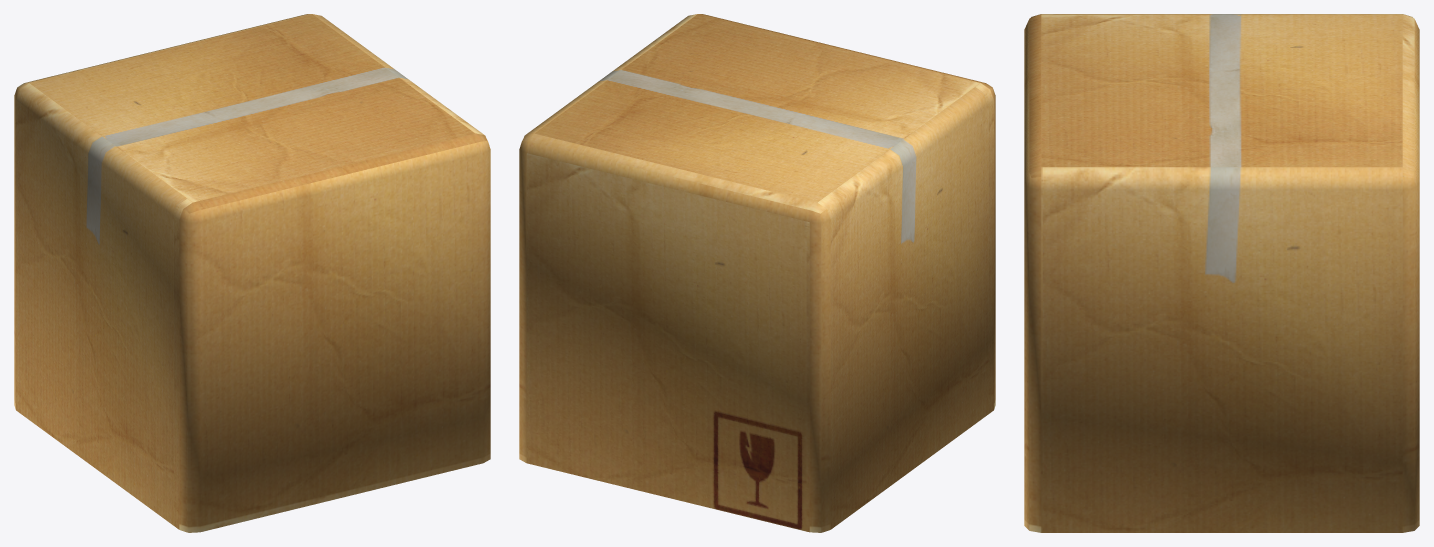
File: BoxSmall.fbx
3 views of the same model, side by side, from view 1: azimuth 30°, elevation 25°; view 2: azimuth 150°, elevation 25°; view 3: azimuth 270°, elevation 25° (orthographic). The views are drawn at different scales.
Parts seen in each view (by area): view 1: Cube; view 2: Cube; view 3: Cube.
Boxes of the visible parts, bbox=[...] form: Cube: bbox=[14, 14, 490, 532]; Cube: bbox=[519, 14, 995, 532]; Cube: bbox=[1024, 14, 1419, 532].
Size of the model in its own units: 200 by 200 by 200.
Materials: 1 (1 with a texture image).
